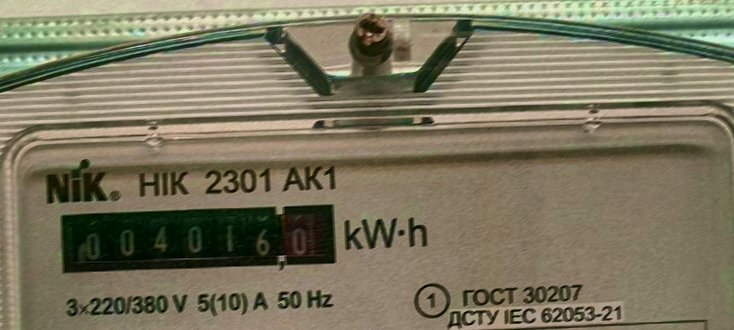0: (183, 220, 205, 256), (81, 227, 103, 261), (116, 224, 136, 258), (287, 223, 308, 255)
1: (221, 218, 237, 253)
4: (150, 220, 169, 254)
6: (251, 223, 271, 255)
screen: (52, 196, 343, 279)
